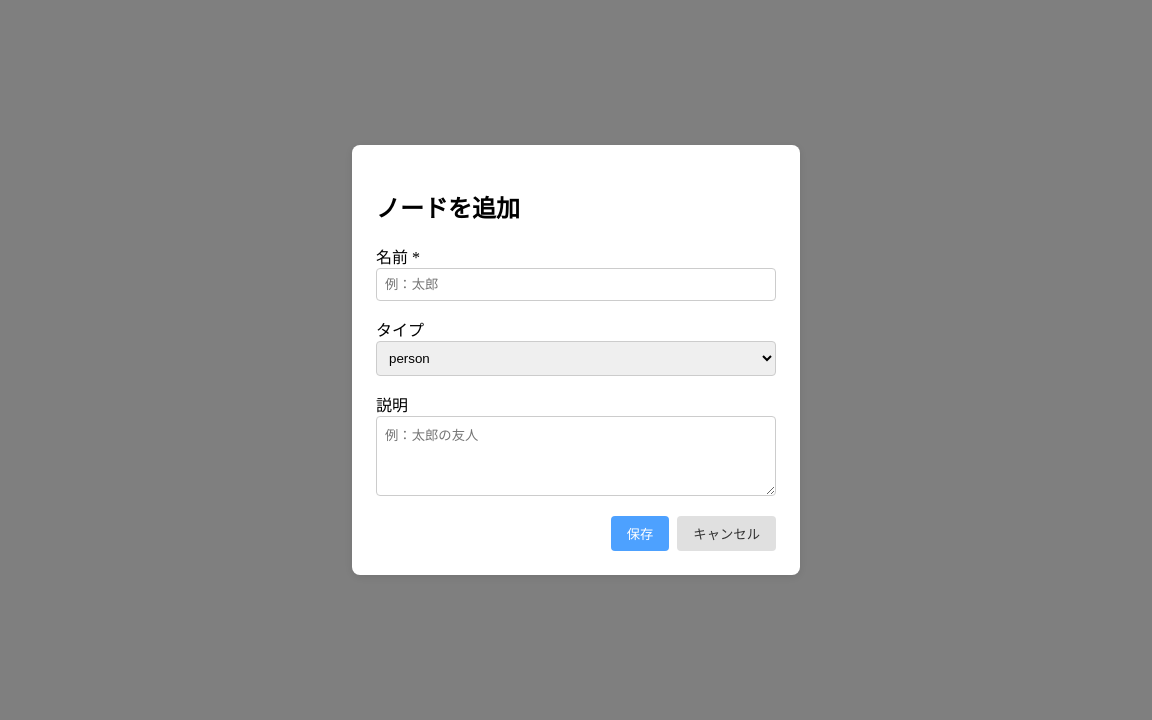
Test: EntityModal › shows validation error when name is empty
The image size is (1152, 720).
Click the button "保存".
click(640, 533)  # box [611,516,669,551]
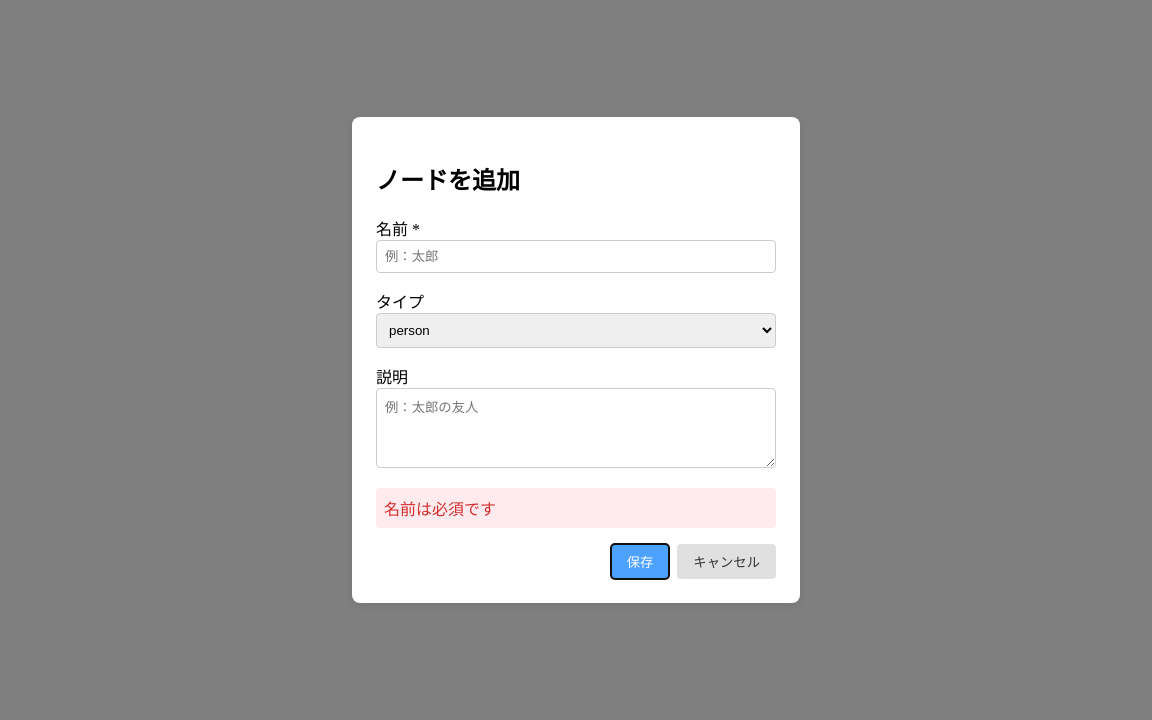
Result: the text "名前は必須です" is shown at [376,488,776,528]
